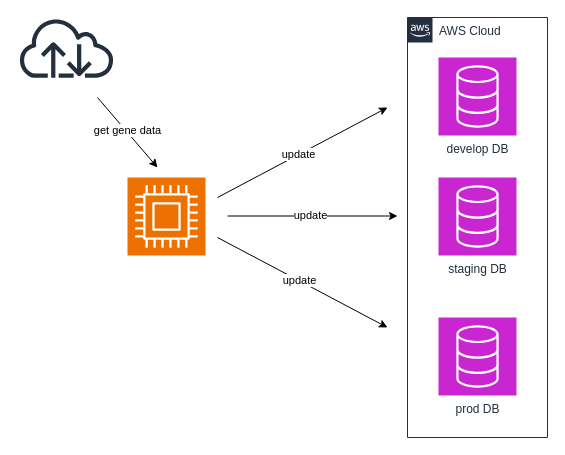
This 565x455 diagram has some shape labels left out. Here are the shapes that lost their labels. From the top down, the centre of each, then its label:
(x=66, y=47): Synapse
(x=166, y=216): Github actions CI instance with AWS OIDC access and DB credentials
